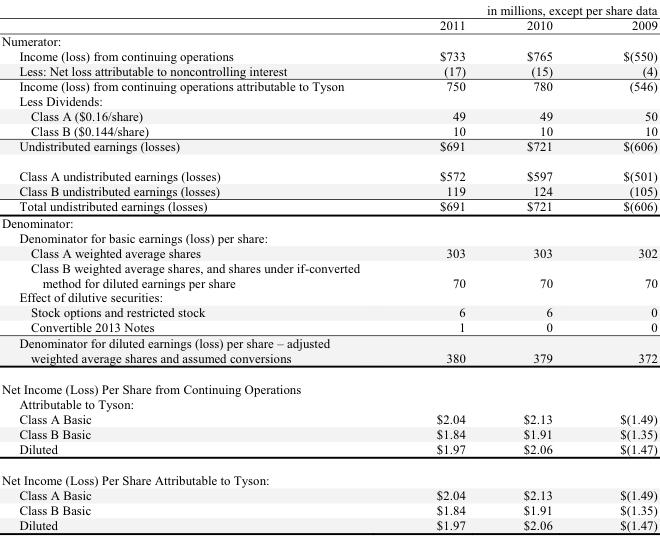table: (0, 0, 656, 532)
table column: (0, 0, 397, 532), (397, 0, 493, 532), (493, 0, 585, 532), (585, 0, 656, 532)
table column header: (0, 0, 656, 32)
table projected row header: (0, 372, 656, 410), (0, 463, 656, 487), (0, 214, 656, 230), (0, 32, 656, 47), (0, 289, 656, 304), (0, 93, 656, 107), (0, 230, 656, 244)
table row: (0, 334, 656, 372), (0, 372, 656, 410), (0, 259, 656, 289), (0, 463, 656, 487), (0, 137, 656, 160), (0, 440, 656, 463), (0, 160, 656, 182), (0, 0, 656, 17), (0, 77, 656, 93), (0, 182, 656, 198), (0, 198, 656, 214), (0, 214, 656, 230), (0, 516, 656, 532), (0, 17, 656, 32), (0, 32, 656, 47), (0, 47, 656, 62), (0, 62, 656, 77), (0, 107, 656, 122), (0, 122, 656, 137), (0, 244, 656, 259), (0, 289, 656, 304), (0, 304, 656, 319), (0, 319, 656, 334), (0, 410, 656, 425), (0, 425, 656, 440), (0, 487, 656, 502), (0, 93, 656, 107), (0, 230, 656, 244), (0, 502, 656, 516)
table spanning cell: (397, 0, 656, 17)
